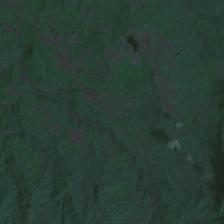landslides: (205, 207, 222, 217), (209, 124, 221, 136), (207, 144, 223, 153), (209, 137, 223, 147), (206, 203, 224, 209), (216, 170, 224, 183)
